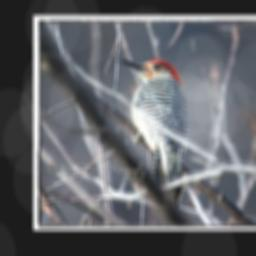Woodpecker: (117, 52, 193, 184)
